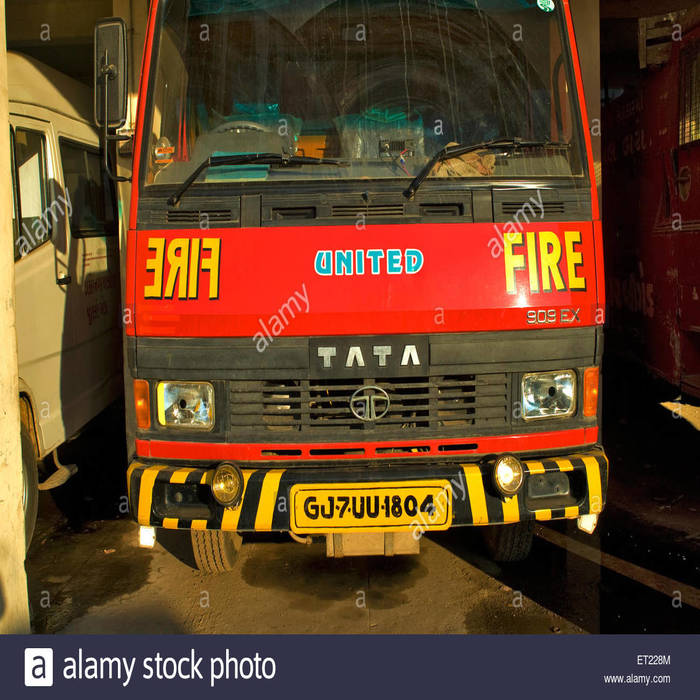n: (293, 484, 452, 533)
